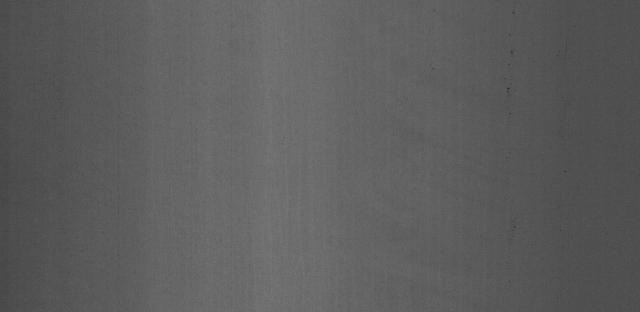inclusion: (503, 45, 518, 108)
